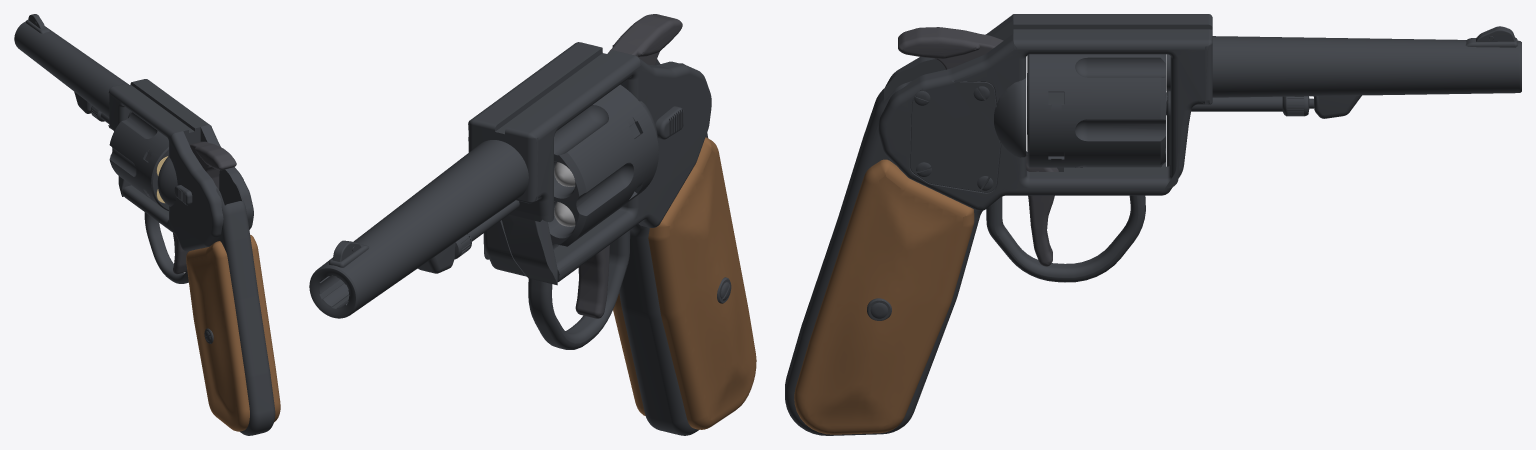
The model's file is revolver.glb.
3 renders of one model, left to right at view 1: azimuth 30°, elevation 25°; view 2: azimuth 150°, elevation 25°; view 3: azimuth 270°, elevation 25°, orthographic. The views are drawn at different scales.
Parts seen in each view (by area): view 1: Frame, Grip, Cylinder, Hammer, Trigger; view 2: Frame, Grip, Cylinder, Crane, Hammer, Trigger; view 3: Frame, Grip, Cylinder, Hammer, Trigger.
Part boxes in pixels (x1,y1,x2,y2): Frame: [14, 14, 275, 435]; Grip: [186, 235, 280, 431]; Cylinder: [91, 106, 168, 210]; Hammer: [189, 141, 236, 189]; Trigger: [173, 233, 189, 274]; Frame: [309, 42, 731, 435]; Grip: [613, 137, 756, 429]; Cylinder: [454, 84, 658, 259]; Crane: [502, 214, 557, 285]; Hammer: [608, 14, 682, 65]; Trigger: [575, 245, 609, 318]; Frame: [785, 14, 1521, 435]; Grip: [794, 159, 974, 434]; Cylinder: [1027, 54, 1314, 167]; Hammer: [898, 27, 1003, 69]; Trigger: [1026, 155, 1058, 266].
Size of the model in its own units: 0.0366 by 0.1272 by 0.2106.
